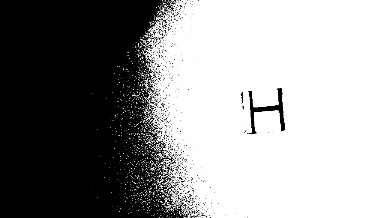H: (240, 84, 292, 134)
